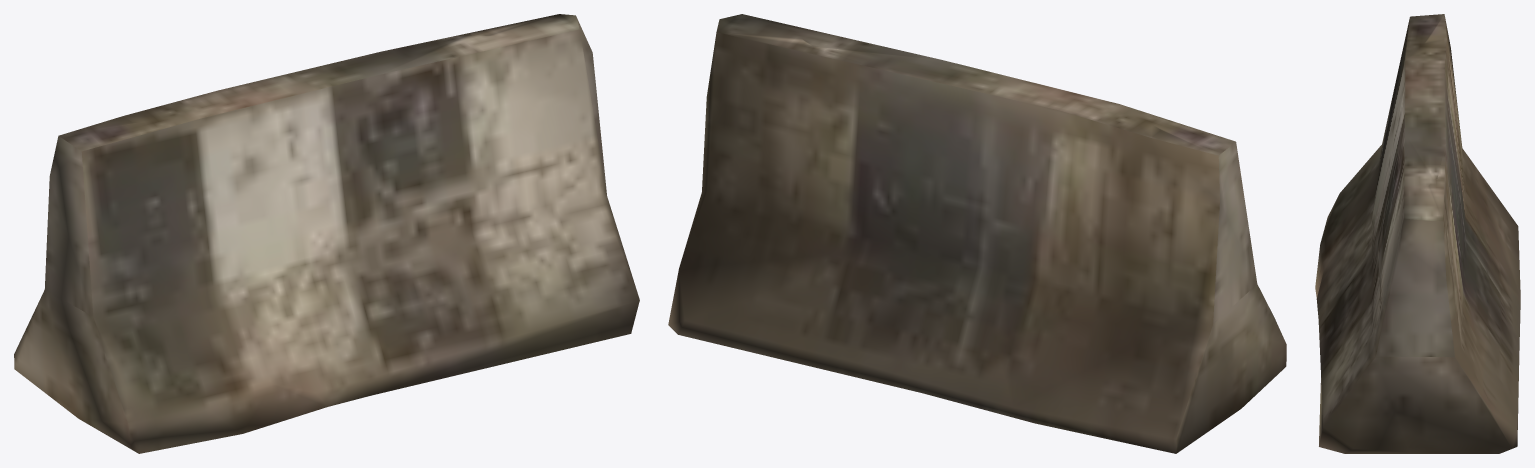
File: concrete_road_barrier_lod.glb
3 views of the same model, side by side, from view 1: azimuth 30°, elevation 25°; view 2: azimuth 150°, elevation 25°; view 3: azimuth 270°, elevation 25° (orthographic). The views are drawn at different scales.
Visible parts, largest first — view 1: concrete_road_barrier; view 2: concrete_road_barrier; view 3: concrete_road_barrier.
Part boxes in pixels (x1,y1,x2,y2): concrete_road_barrier: (14, 14, 639, 453); concrete_road_barrier: (668, 14, 1286, 453); concrete_road_barrier: (1315, 14, 1520, 453).
Bounding box in the file's own units: 1.54 × 0.7973 × 0.6241.
Materials: 1 (1 with a texture image).
